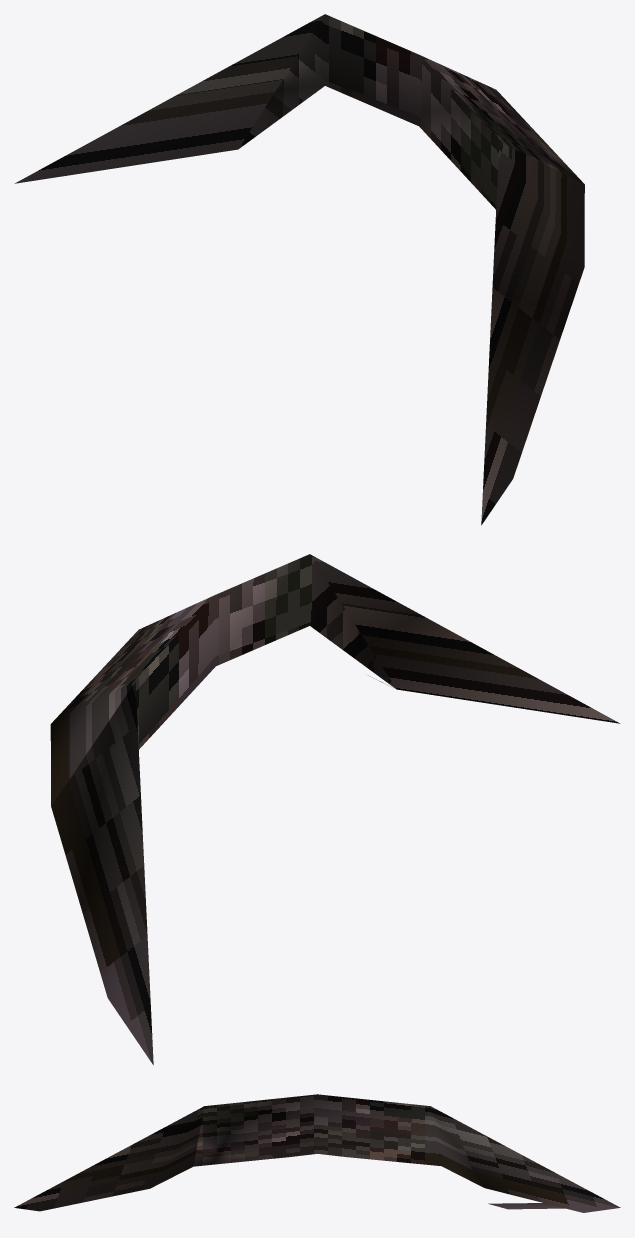
The model's file is IR_Moustache02.glb.
3 renders of one model, top to bottom at view 1: azimuth 30°, elevation 25°; view 2: azimuth 150°, elevation 25°; view 3: azimuth 270°, elevation 25°, orthographic. The views are drawn at different scales.
Visible parts, largest first — view 1: IR_MOUSTACHE02; view 2: IR_MOUSTACHE02; view 3: IR_MOUSTACHE02.
Boxes of the visible parts, <box> form: IR_MOUSTACHE02: <box>14,14,584,525</box>; IR_MOUSTACHE02: <box>50,554,620,1065</box>; IR_MOUSTACHE02: <box>14,1094,620,1212</box>.
Size of the model in its own units: 0.04 by 0.036 by 0.118.
1 material, 1 textured.
